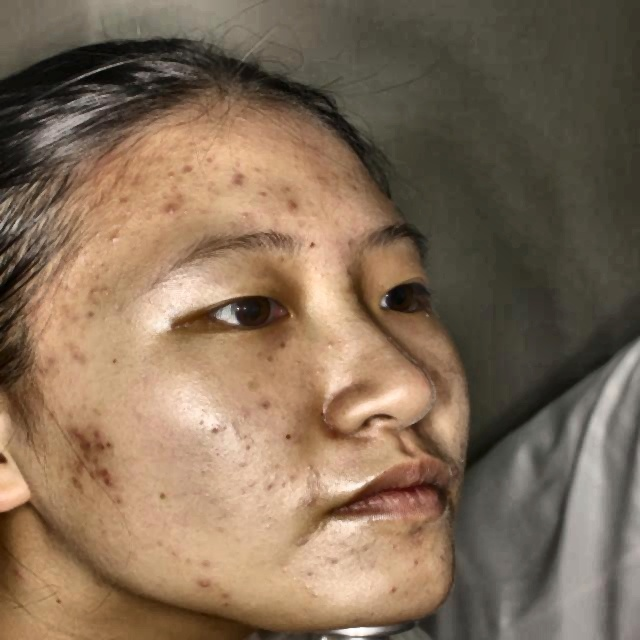pustule: (32, 356, 70, 386), (221, 164, 253, 194), (279, 194, 308, 221), (92, 428, 118, 457), (65, 343, 96, 366), (70, 460, 93, 490), (54, 303, 76, 332), (65, 426, 90, 451), (161, 201, 183, 228), (190, 573, 217, 594), (95, 466, 119, 485)
